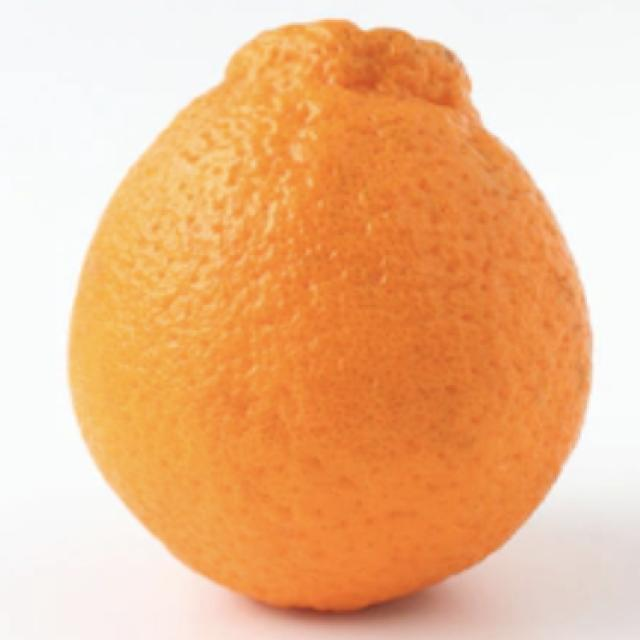Orange: (66, 17, 594, 614)
